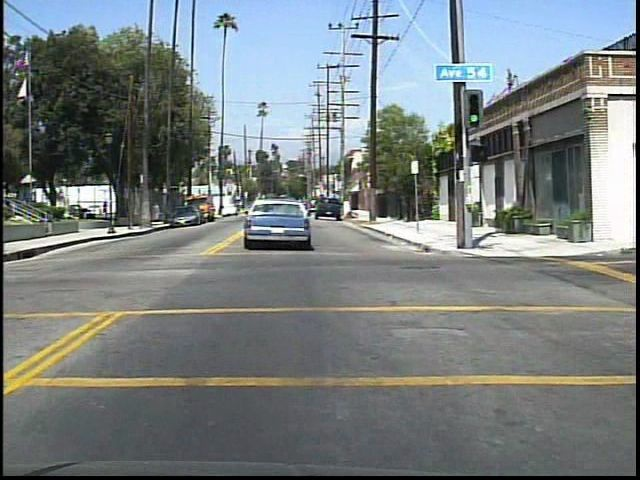person: (151, 200, 163, 226), (120, 196, 133, 219), (101, 198, 110, 220)
